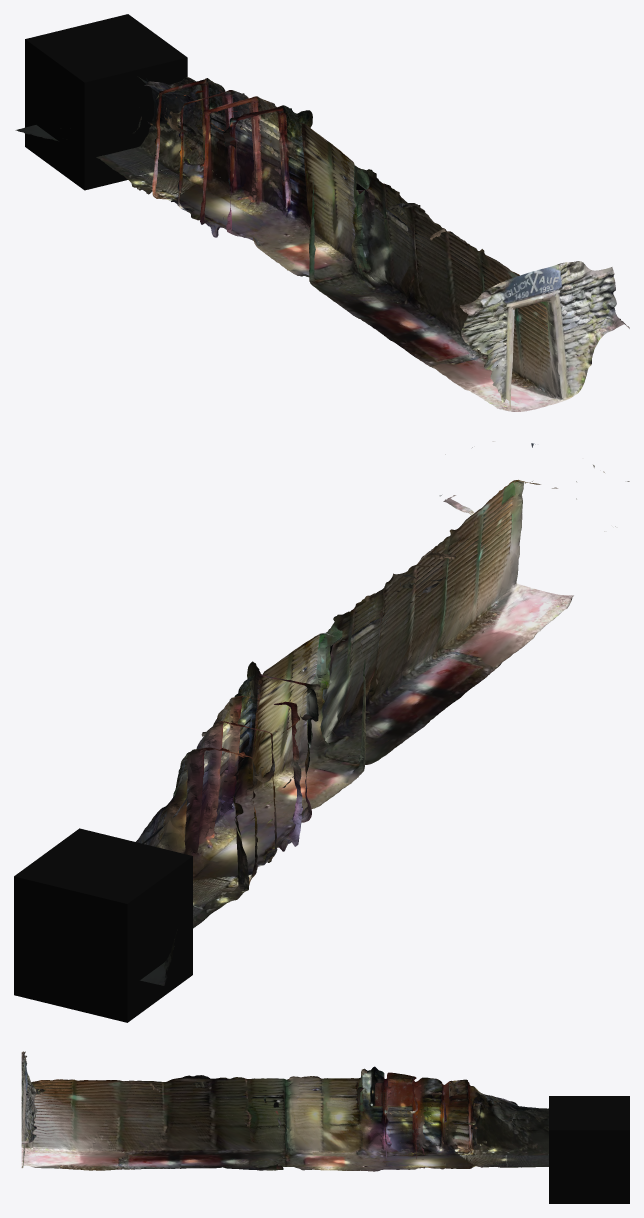
Rendered from Stollen_2_Tunnel_Humboldt.glb.
The picture shows the model from 3 angles, top to bottom: view 1: azimuth 30°, elevation 25°; view 2: azimuth 150°, elevation 25°; view 3: azimuth 270°, elevation 25°; orthographic projection. The views are drawn at different scales.
Visible parts, largest first — view 1: Cube.003; view 2: Cube.003; view 3: Cube.003.
Part boxes in pixels (box(x1,y1,x2,y2)): Cube.003: box(15, 14, 629, 411); Cube.003: box(14, 441, 629, 1022); Cube.003: box(21, 1051, 629, 1203).
Size of the model in its own units: 3.42 by 3.41 by 15.19.
2 materials, 1 textured.
